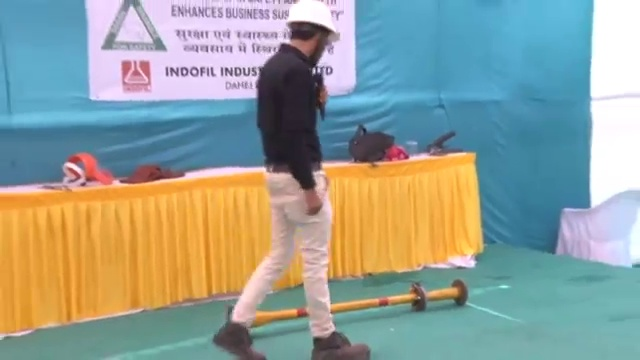helmet: (285, 1, 340, 40)
helmet_on: (284, 2, 341, 67)
person: (224, 2, 369, 360)
